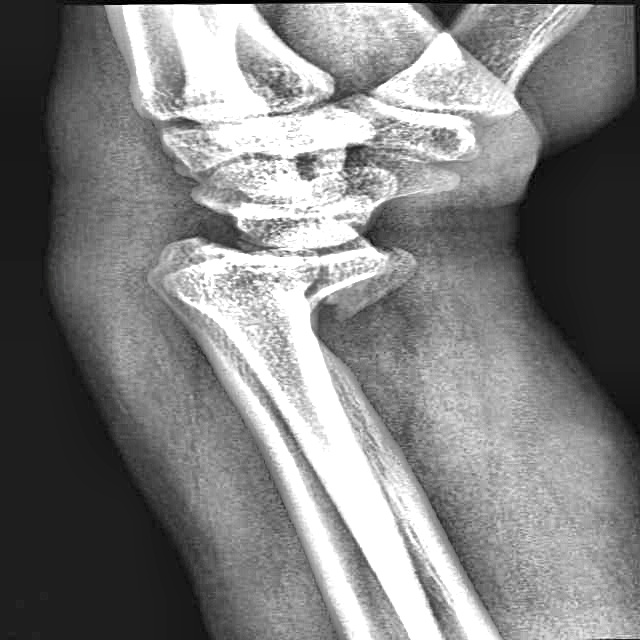Linear: (260, 244, 374, 316)
